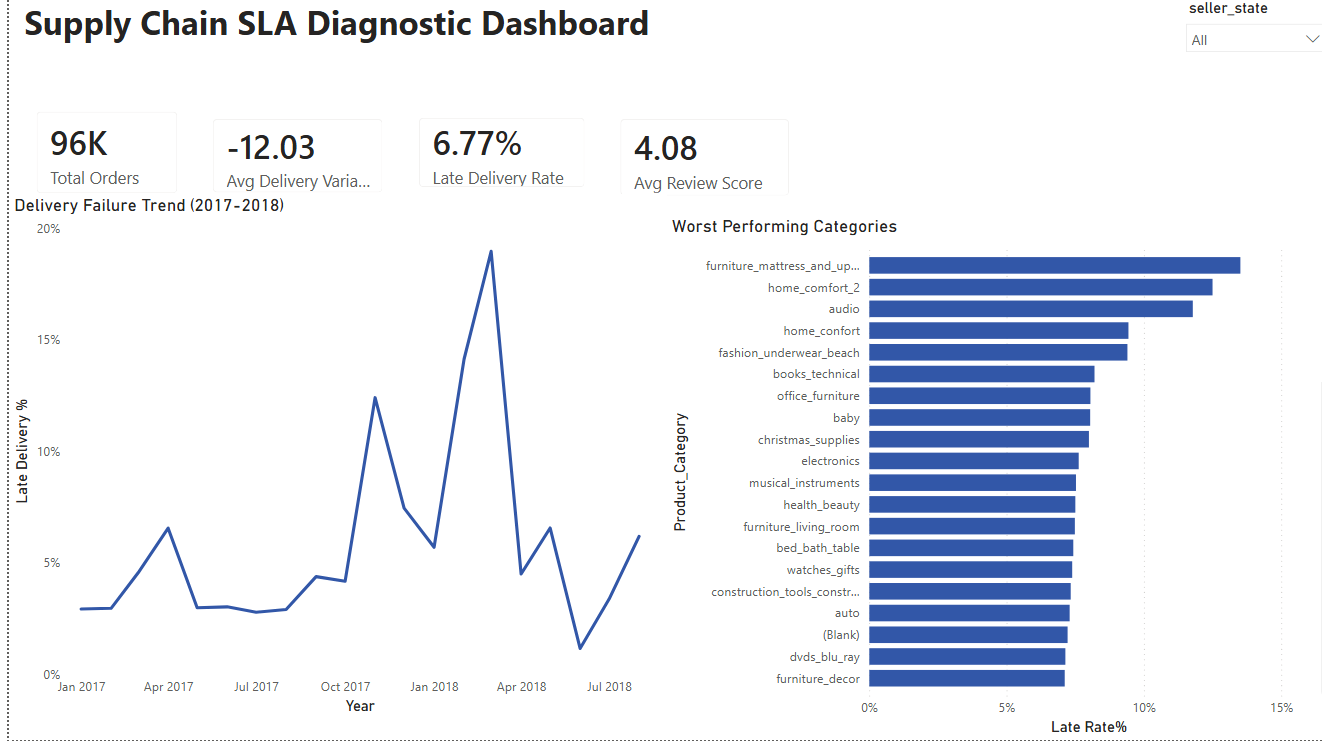

This screenshot's page, from the dashboard's own definition file:
{"tool":"powerbi","page":{"name":"Page 1","canvas":[1280,720],"ordinal":0},"visuals":[{"type":"textbox","box":[9.6,0,1270.7,54.9],"z":0},{"type":"cardVisual","fields":{"Data":["_key metrics.Total Orders"]},"box":[9.6,96.1,170.2,113.9],"z":1},{"type":"cardVisual","fields":{"Data":["_key metrics.Avg Review Score"]},"box":[573.6,104.3,197.6,108.4],"z":2},{"type":"cardVisual","fields":{"Data":["_key metrics.Late Delivery Rate"]},"box":[378.7,102.9,194.9,101.5],"z":3},{"type":"cardVisual","fields":{"Data":["_key metrics.Avg Delivery Variance"]},"box":[179.8,104.3,199,105.7],"z":4},{"type":"lineChart","title":"Delivery Failure Trend (2017-2018)","fields":{"Y":["_key metrics.Late Delivery Rate"],"Category":["public vw_supply_chain_datamart.purchase_date.Variation.Date Hierarchy.Year","public vw_supply_chain_datamart.purchase_date.Variation.Date Hierarchy.Month"]},"box":[0,193.5,635.3,507.7],"z":5},{"type":"clusteredBarChart","title":"Worst Performing Categories","fields":{"Y":["_key metrics.Late Delivery Rate"],"Category":["public product_category_name_translation.product_category_name_english"]},"box":[635,213,645,507],"z":6},{"type":"slicer","fields":{"Values":["public vw_supply_chain_datamart.seller_state"]},"box":[1125.2,0,155.1,83.7],"z":7}]}

Visuals, with their boxes in screenshot pixels (x1, y1, x2, y2), scaled from the page's 1280x720 canvas onto the 1322x741 screenshot:
textbox: (left=10, top=0, right=1321, bottom=57)
cardVisual - _key metrics.Total Orders: (left=10, top=99, right=186, bottom=216)
cardVisual - _key metrics.Avg Review Score: (left=592, top=107, right=797, bottom=219)
cardVisual - _key metrics.Late Delivery Rate: (left=391, top=106, right=592, bottom=210)
cardVisual - _key metrics.Avg Delivery Variance: (left=186, top=107, right=391, bottom=216)
"Delivery Failure Trend (2017-2018)" lineChart: (left=0, top=199, right=656, bottom=722)
"Worst Performing Categories" clusteredBarChart: (left=656, top=219, right=1321, bottom=740)
slicer - public vw_supply_chain_datamart.seller_state: (left=1162, top=0, right=1321, bottom=86)
